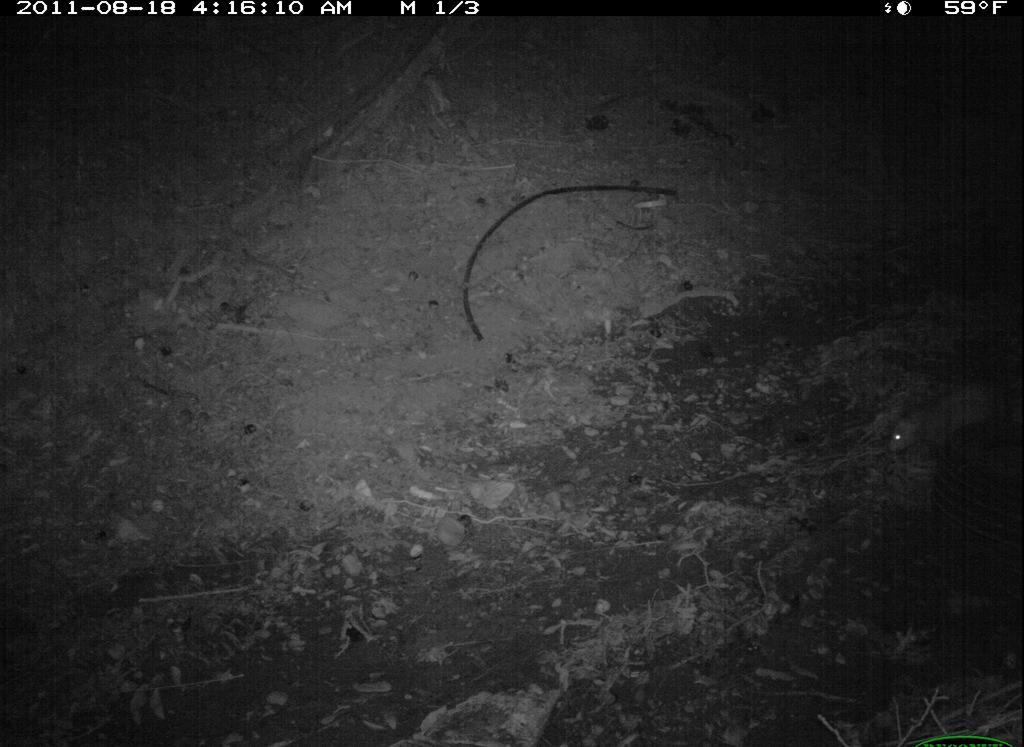opossum: (876, 364, 1023, 470)
